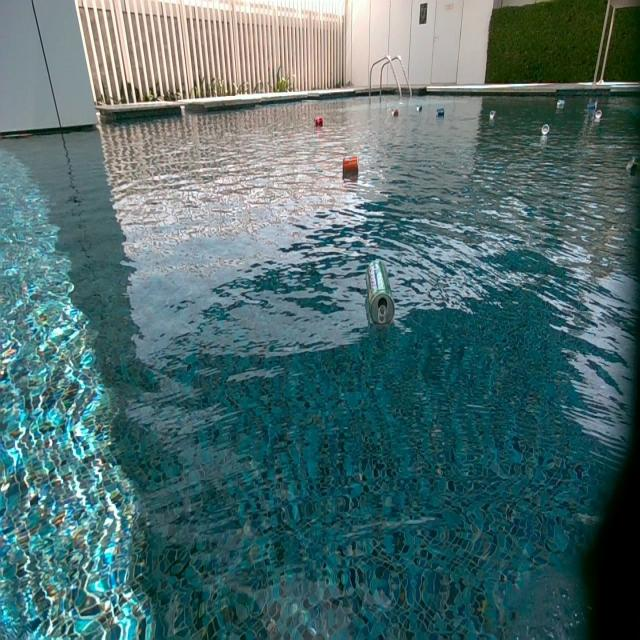Cans: (367, 257, 394, 330), (342, 158, 359, 174), (628, 154, 640, 175), (587, 100, 599, 110), (556, 100, 566, 110), (315, 116, 324, 127), (540, 124, 548, 136), (391, 107, 399, 118), (438, 108, 446, 118), (594, 109, 602, 119), (489, 110, 496, 121), (416, 105, 424, 113)
